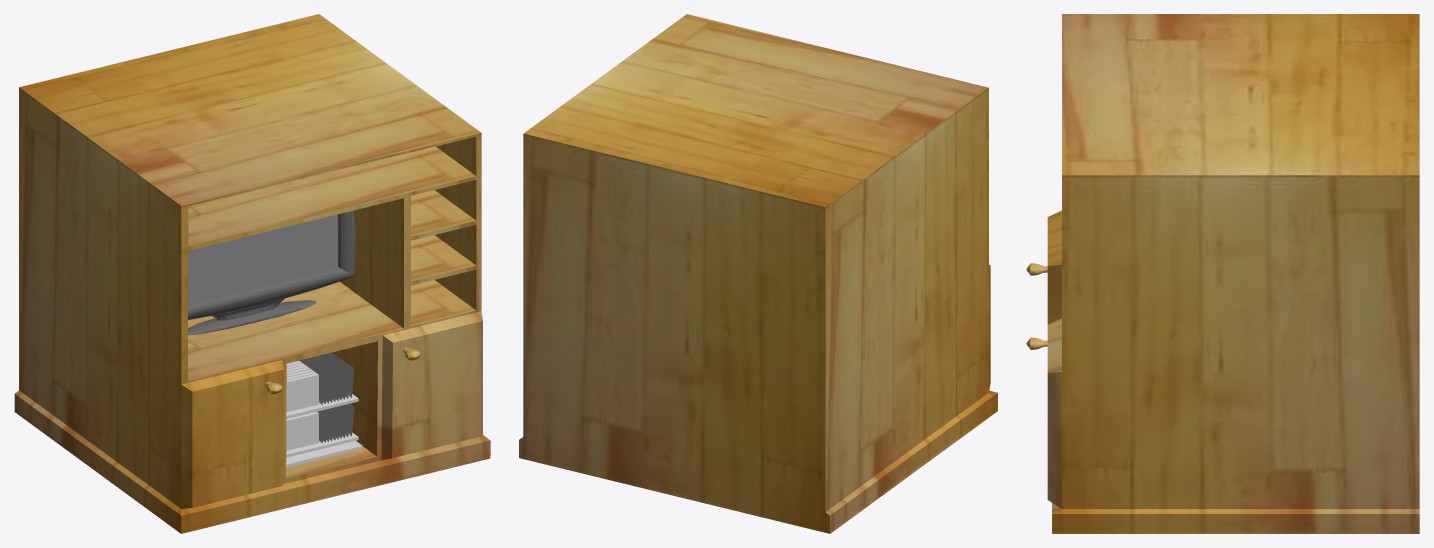
Rendered from sh-contrib-tv-center.glb.
3 views of the same model, side by side, from view 1: azimuth 30°, elevation 25°; view 2: azimuth 150°, elevation 25°; view 3: azimuth 270°, elevation 25° (orthographic). The views are drawn at different scales.
Parts seen in each view (by area): view 1: PolyMesh_2, Screen, PolyMesh_2_28, TV; view 2: PolyMesh_2; view 3: PolyMesh_2.
Boxes of the visible parts, x1=… form: PolyMesh_2: x1=14, y1=14, x2=490, y2=533; Screen: x1=188, y1=214, x2=337, y2=303; PolyMesh_2_28: x1=286, y1=352, x2=362, y2=467; TV: x1=188, y1=210, x2=355, y2=335; PolyMesh_2: x1=519, y1=14, x2=997, y2=533; PolyMesh_2: x1=1026, y1=14, x2=1419, y2=533.
Size of the model in its own units: 1 by 1 by 1.
4 materials, 1 textured.
